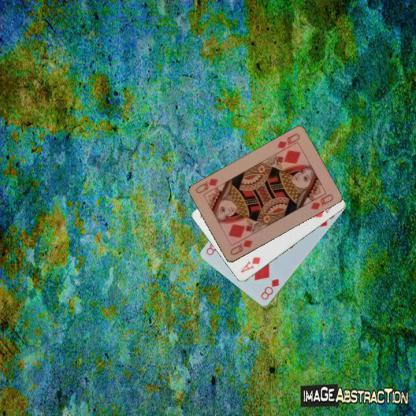8d: (258, 276, 280, 301)
Ad: (238, 254, 262, 274)
Qd: (274, 130, 301, 155), (227, 238, 254, 256)
